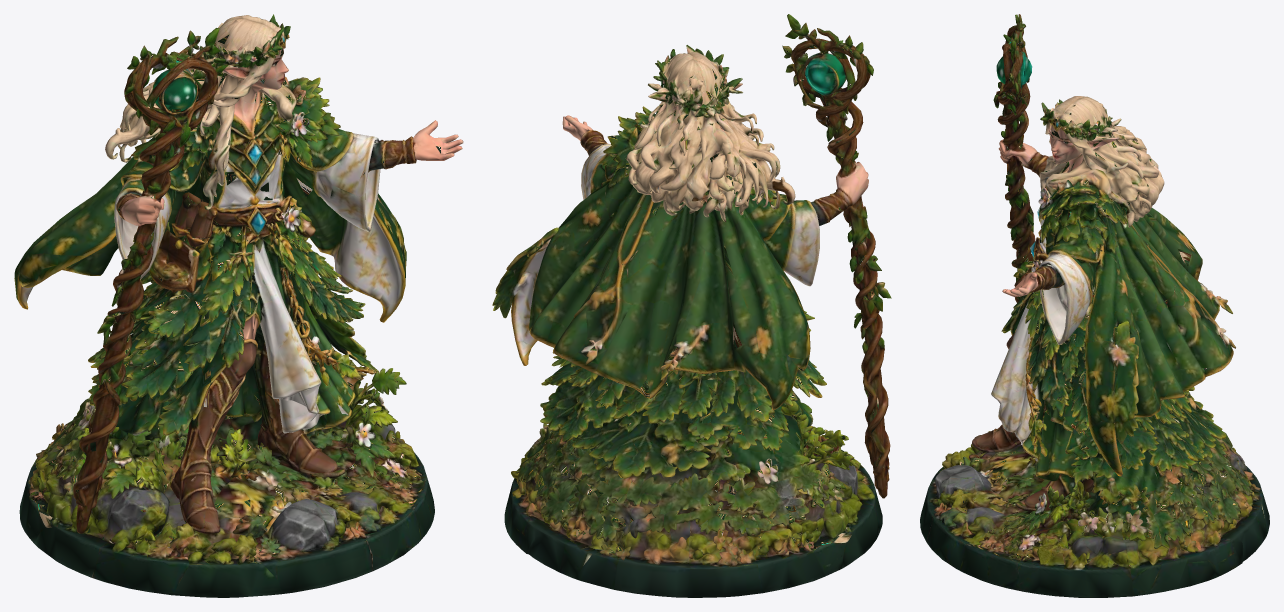
The model's file is elfDruid.glb.
3 views of the same model, side by side, from view 1: azimuth 30°, elevation 25°; view 2: azimuth 150°, elevation 25°; view 3: azimuth 270°, elevation 25° (orthographic). The views are drawn at different scales.
Size of the model in its own units: 1.42 by 1.9 by 1.31.
1 material, 1 textured.
